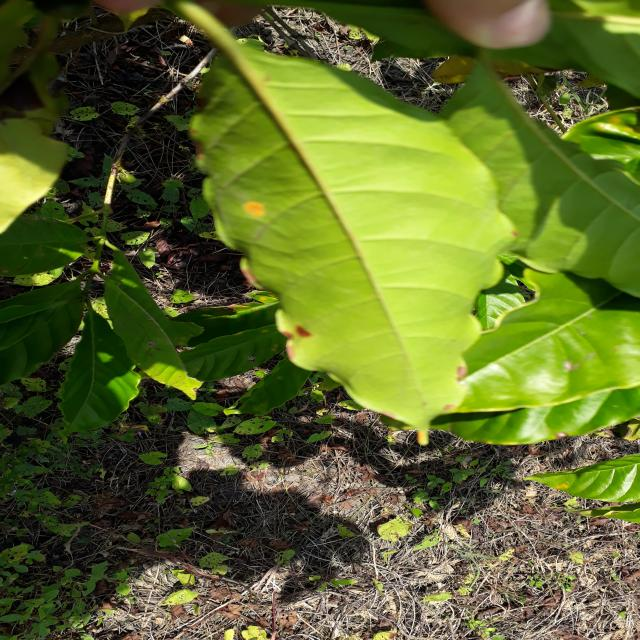Enfermedad-Roya: (170, 0, 515, 436)
